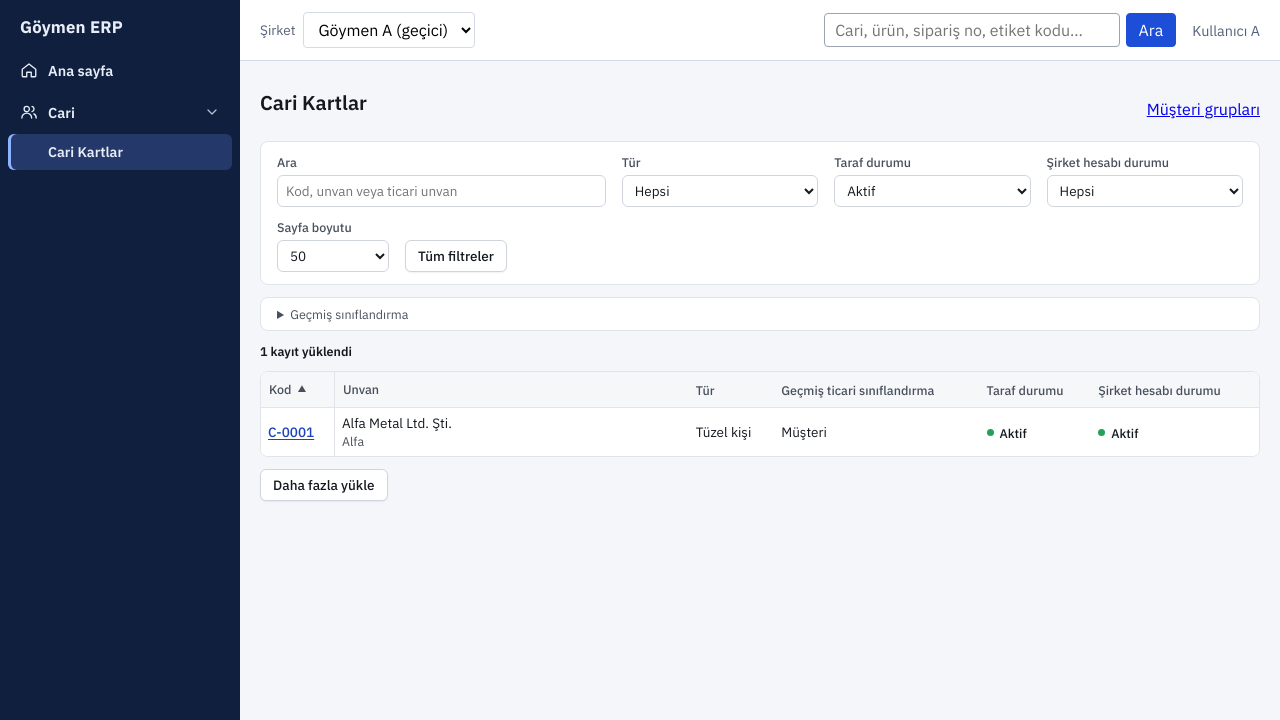
C-01 context fence (Codex/ChatGPT #147 P1-2) › accumulated cursor pages do not survive a company switch
Expected: the row "C-0001" is shown, left=261, top=408, right=1259, bottom=456
Click the button "Daha fazla yükle".
click(324, 485)  # box left=260, top=469, right=388, bottom=501
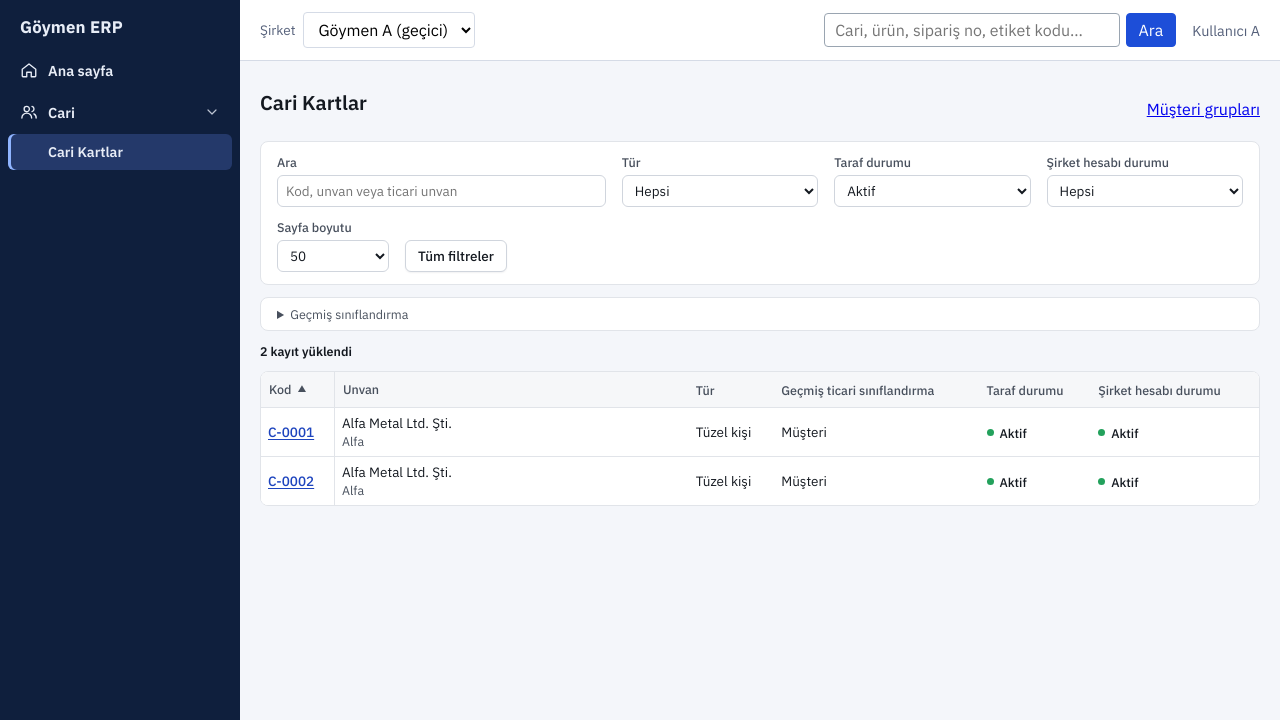
Result: the row "C-0002" is shown at left=261, top=457, right=1259, bottom=505
Select "Göymen B (geçici)" in the dropdown labelled "Şirket" at (390, 30), box left=304, top=12, right=476, bottom=48
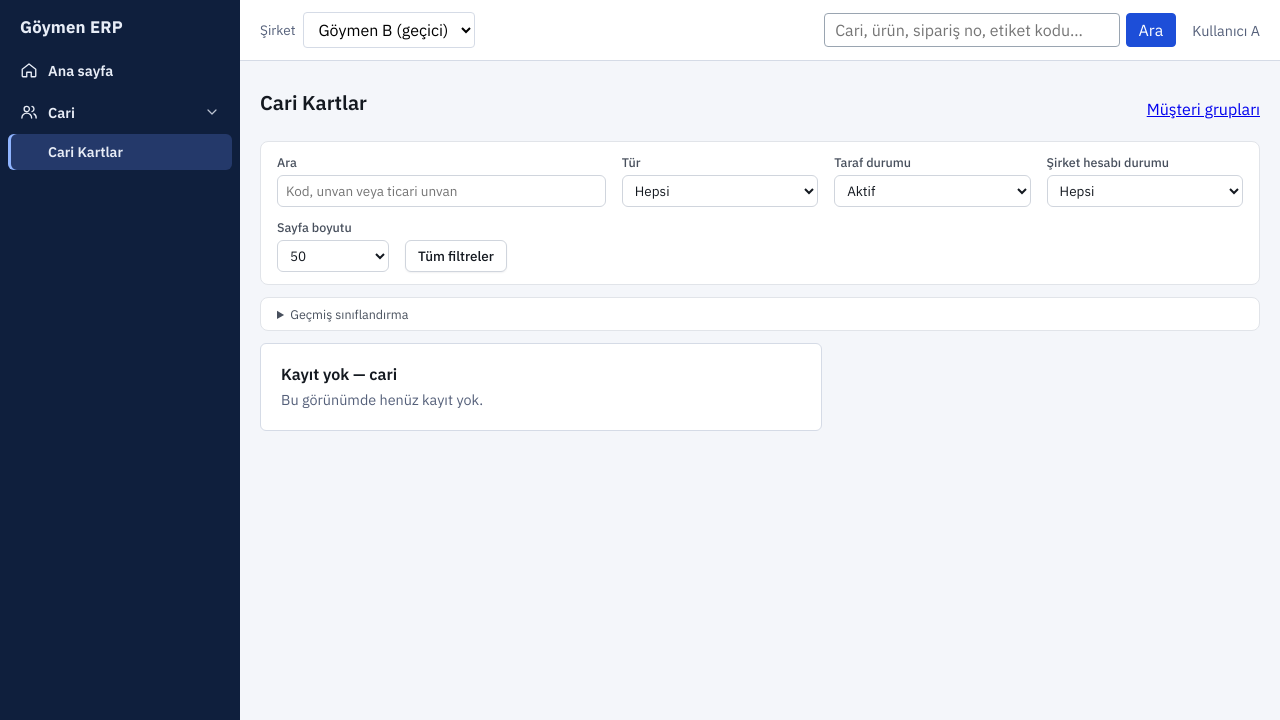
Result: the link "C-0001" is gone
Result: the link "C-0002" is gone
